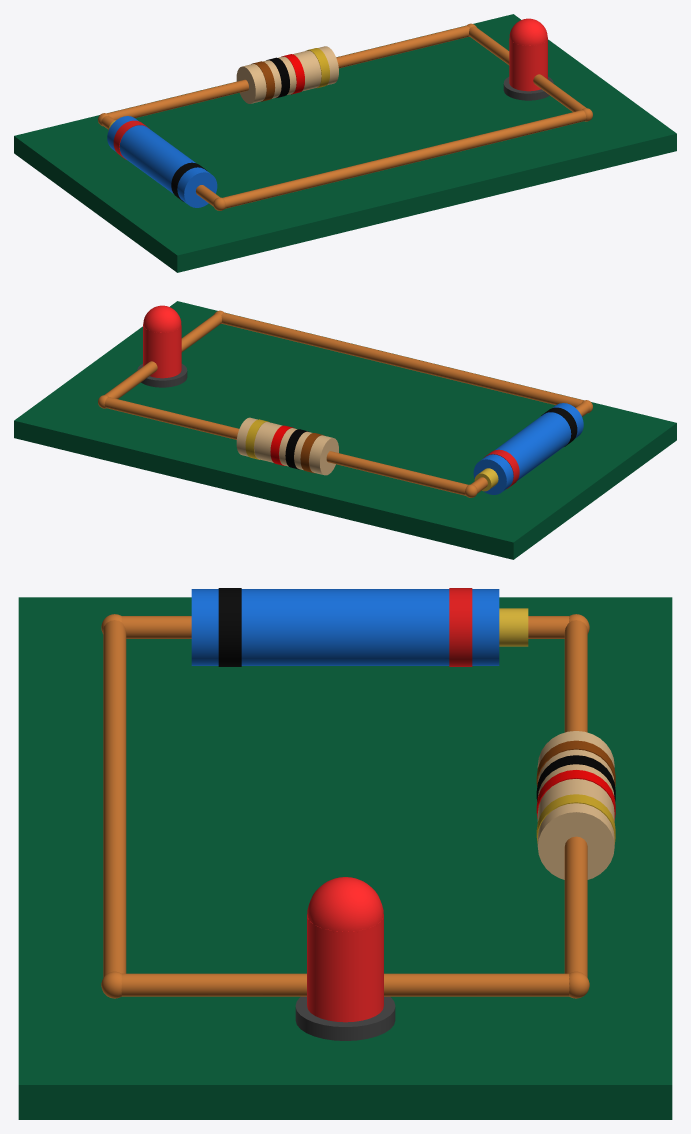
Rendered from rangkaian.glb.
3 renders of one model, top to bottom at view 1: azimuth 30°, elevation 25°; view 2: azimuth 150°, elevation 25°; view 3: azimuth 270°, elevation 25°, orthographic. The views are drawn at different scales.
Bounding box in the file's own units: 0.6 × 0.1 × 0.34.
